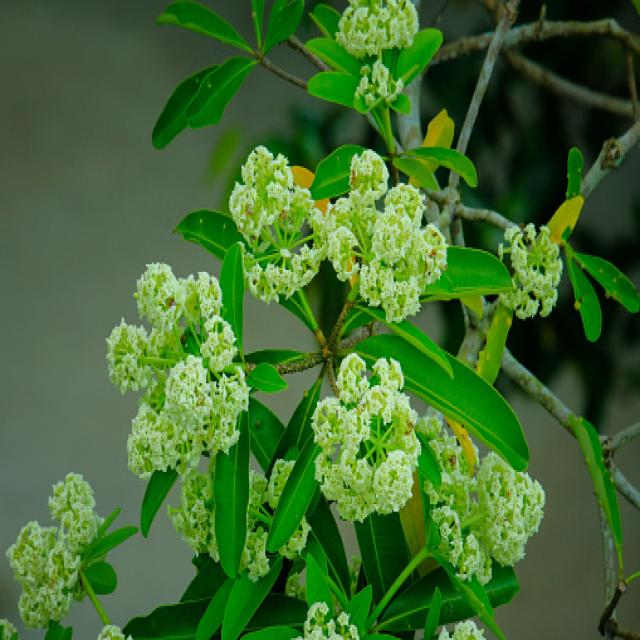Indian Pulai: (316, 8, 637, 340), (302, 285, 600, 640), (258, 168, 508, 386), (89, 258, 301, 485), (16, 421, 224, 640)
